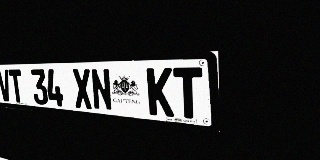3: (31, 69, 49, 105)
4: (45, 69, 64, 107)
K: (146, 68, 174, 117)
N: (90, 68, 113, 111)
T: (173, 67, 204, 120), (8, 69, 25, 103)
V: (0, 70, 12, 102)
X: (72, 69, 93, 109)
